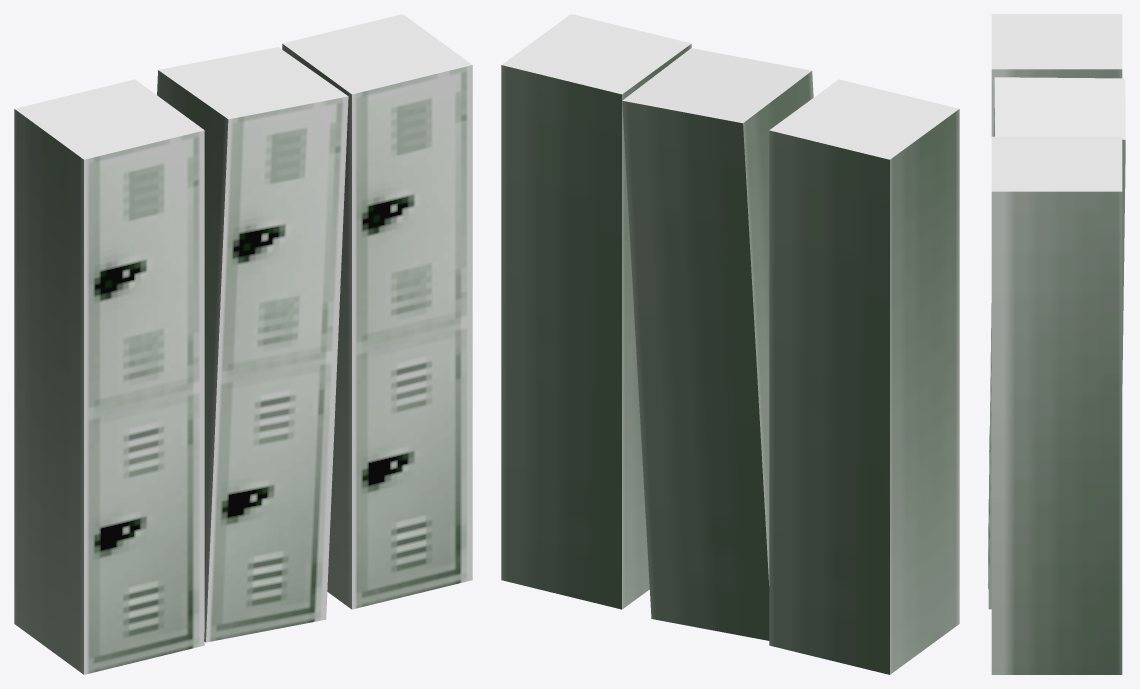
File: lockers.fbx
3 views of the same model, side by side, from view 1: azimuth 30°, elevation 25°; view 2: azimuth 150°, elevation 25°; view 3: azimuth 270°, elevation 25° (orthographic). The views are drawn at different scales.
Visible parts, largest first — view 1: lockers; view 2: lockers; view 3: lockers.
Boxes of the visible parts, left/top/right/bottom form: lockers: left=14, top=14, right=472, bottom=674; lockers: left=501, top=14, right=959, bottom=674; lockers: left=988, top=14, right=1125, bottom=674.
Bounding box in the file's own units: 644 × 827 × 211.
Materials: 1 (1 with a texture image).
